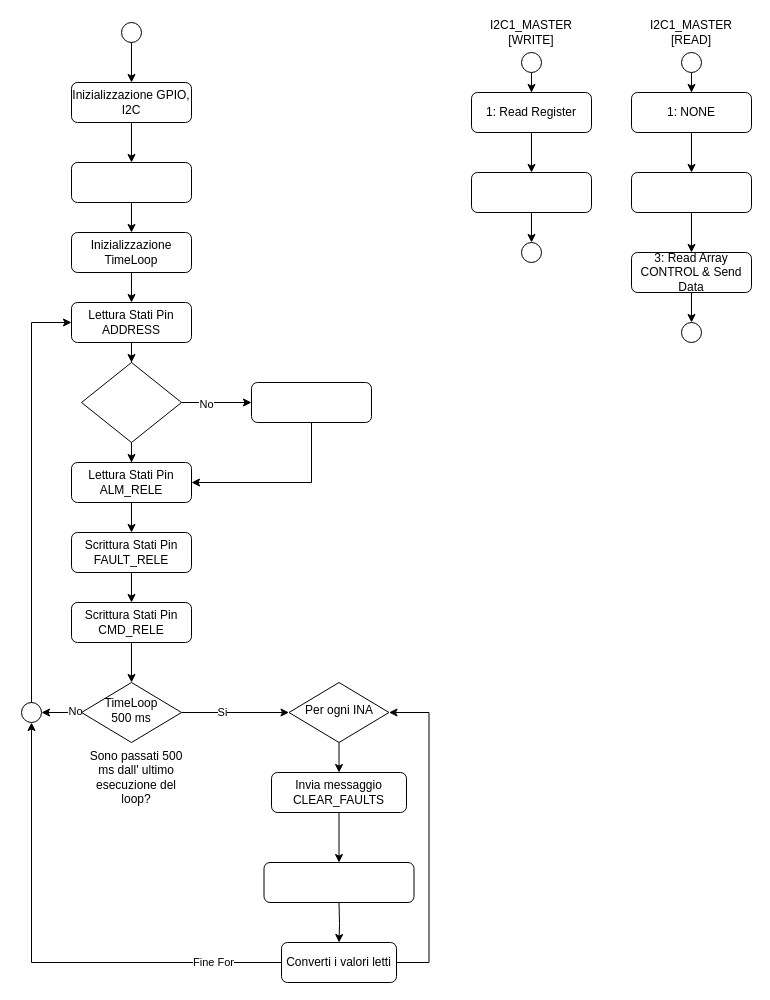
Some shapes in this 770 by 1000 pixel diagram are drawn without their labels. Each missing label, with the centre of its shape:
"2: Read Data & Modify Array CONTROL" belongs at point (531, 192).
"2: Read Register" belongs at point (691, 192).
"Aggiorna I2C1_ADDRESS" belongs at point (311, 402).
"I2C1_ADDRESS == 0x40 + ADDRESS_PinState" belongs at point (131, 402).
"Inizializzazione INA233" belongs at point (131, 182).
"Leggi i valori di VIN e IIN" belongs at point (338, 882).
